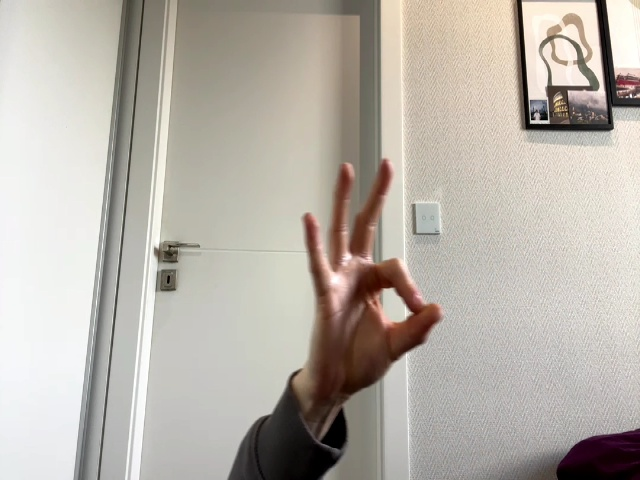O: (303, 159, 443, 409)
